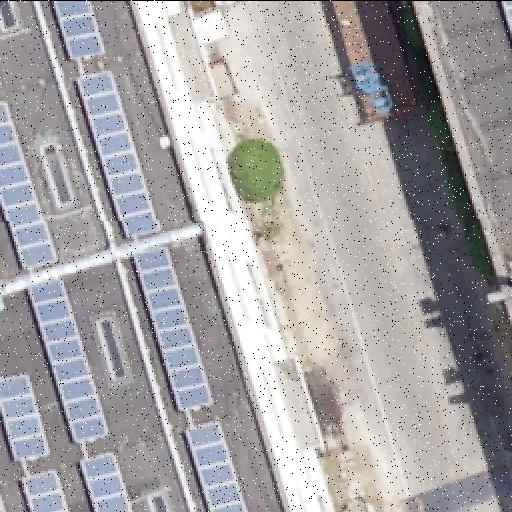solar-panel: (76, 67, 160, 237), (25, 277, 111, 443), (131, 243, 213, 413), (0, 96, 58, 268), (184, 417, 248, 511), (0, 372, 52, 460), (79, 448, 137, 512), (51, 0, 101, 58), (17, 464, 71, 512), (500, 0, 512, 36), (0, 489, 8, 511)
